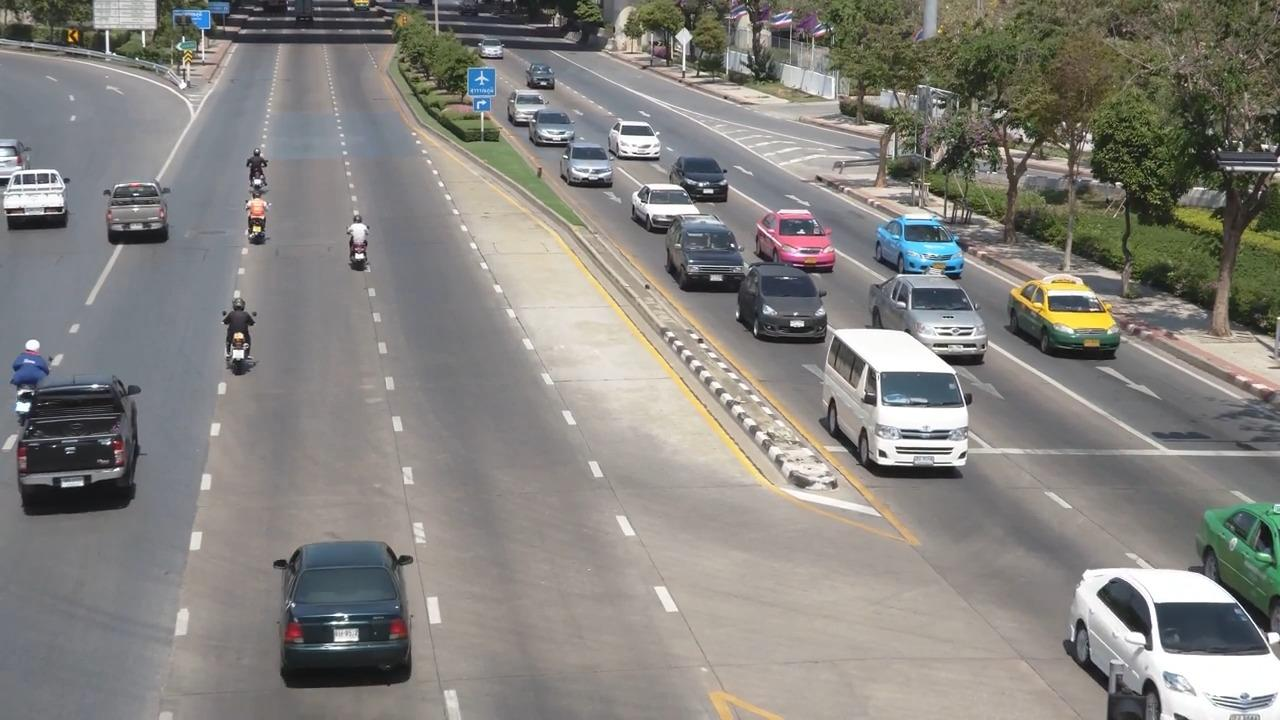CAR: (1057, 542, 1280, 720), (262, 531, 430, 702), (820, 327, 978, 478), (11, 374, 140, 526), (990, 267, 1127, 368), (1206, 482, 1280, 643), (875, 269, 994, 368), (98, 172, 190, 260), (734, 264, 831, 346), (870, 206, 971, 278), (672, 218, 761, 299), (754, 200, 836, 273), (0, 160, 75, 239), (630, 177, 704, 237), (665, 144, 733, 202), (601, 111, 666, 167), (563, 142, 616, 191), (526, 104, 576, 149), (498, 85, 548, 127), (525, 56, 566, 93)
MOTOR: (205, 295, 274, 386), (4, 322, 66, 417), (238, 191, 280, 248), (238, 138, 279, 196), (341, 210, 378, 271)
